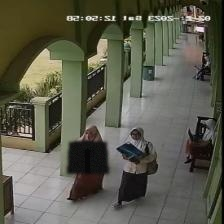Cadar_Niqab: (66, 124, 108, 173)
